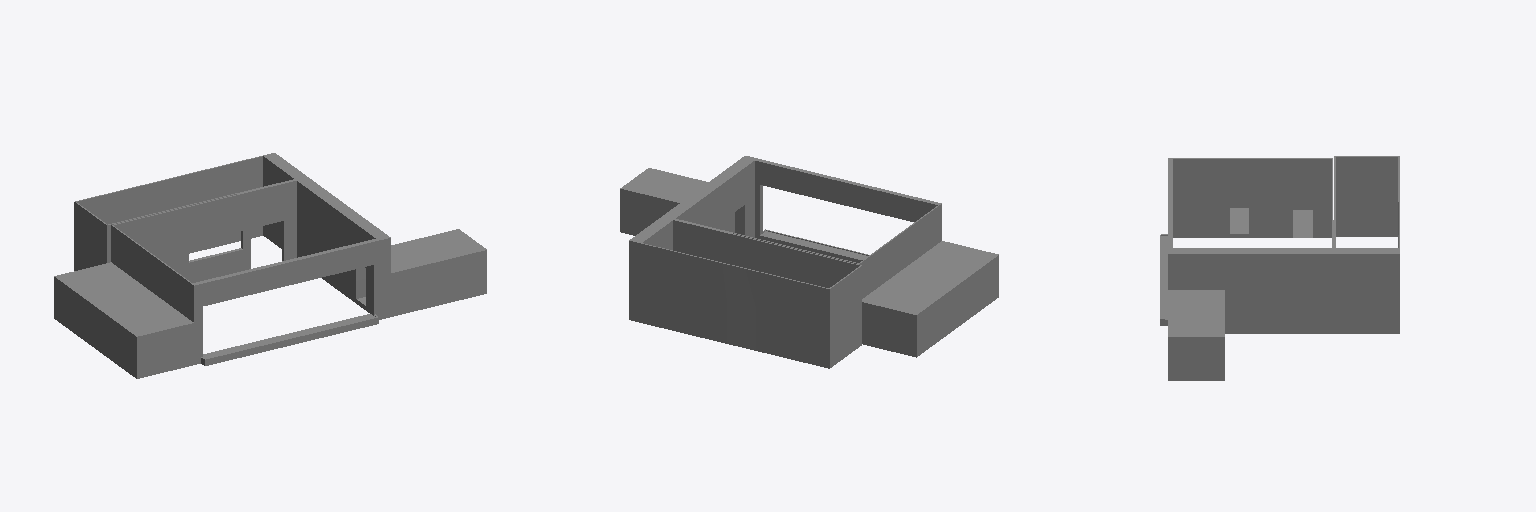
Rendered from Wall_A.obj.
3 renders of one model, left to right at view 1: azimuth 30°, elevation 25°; view 2: azimuth 150°, elevation 25°; view 3: azimuth 270°, elevation 25°, orthographic.
Parts seen in each view (by area): view 1: Wall_Mesh; view 2: Wall_Mesh; view 3: Wall_Mesh.
Part boxes in pixels (x1,y1,x2,y2): Wall_Mesh: (54,153,486,378); Wall_Mesh: (620,156,998,368); Wall_Mesh: (1160,156,1399,380).
Bounding box in the file's own units: 20.37 × 4.46 × 12.1.